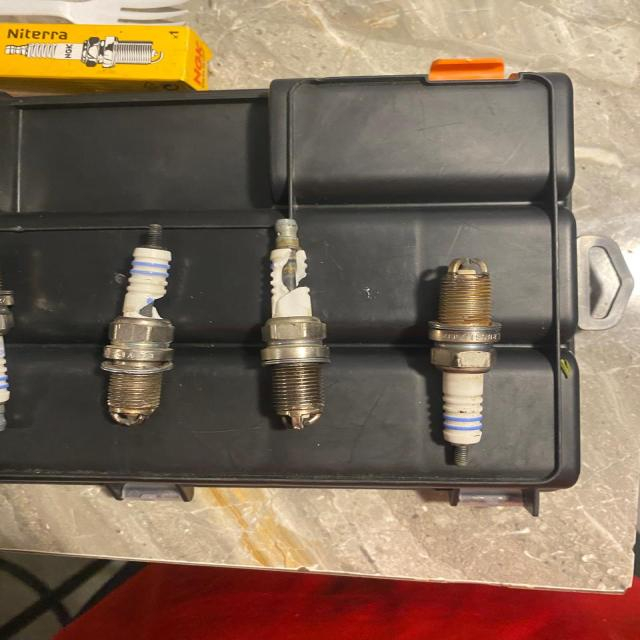damaged_spark-plug: (78, 220, 196, 426), (258, 212, 334, 437)
spark-plug: (407, 256, 517, 468)
